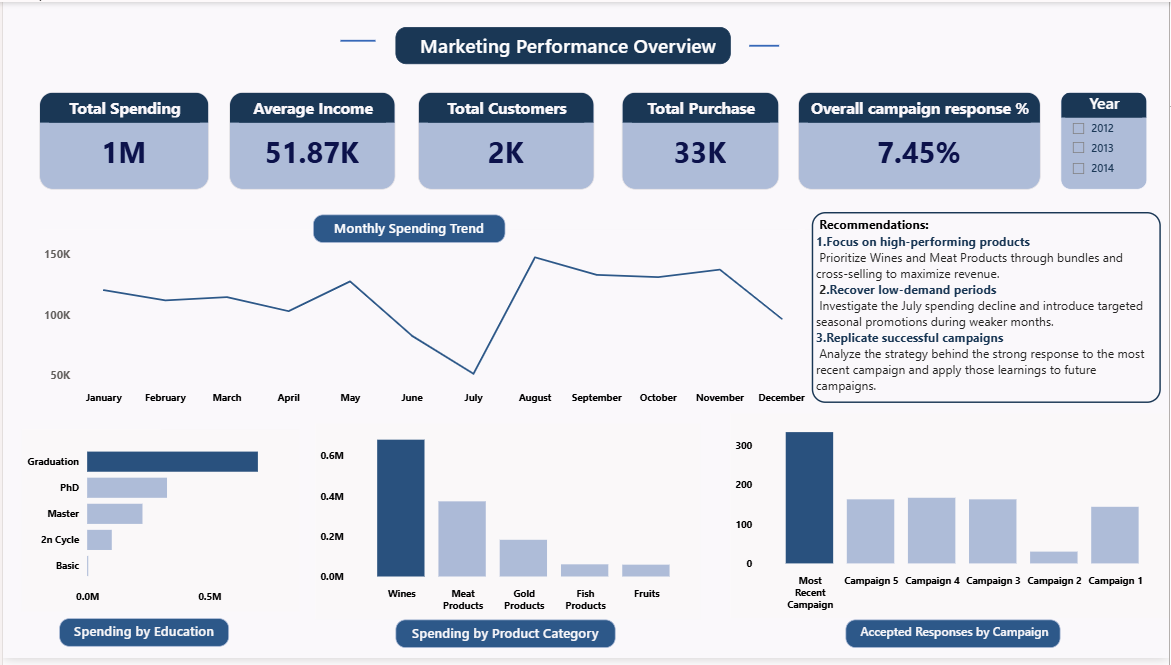

This screenshot's page, from the dashboard's own definition file:
{"tool":"powerbi","page":{"name":"Marketing Overview","canvas":[1280,720],"ordinal":0},"visuals":[{"type":"cardVisual","title":"Total Customers","fields":{"Data":["_Measures.Total_Customers"]},"box":[455.6,98.8,193.5,107],"z":0},{"type":"cardVisual","title":"Average Income","fields":{"Data":["_Measures.Avg_Income"]},"box":[248.4,98.8,182.5,107],"z":1000},{"type":"cardVisual","title":"Total Spending","fields":{"Data":["_Measures.Total_Spending"]},"box":[39.8,98.8,186.6,107],"z":2000},{"type":"cardVisual","title":"Total Purchase","fields":{"Data":["_Measures.Total_Purchase"]},"box":[679.2,98.8,172.9,107],"z":3000},{"type":"clusteredColumnChart","title":"Total Spending by Product Category","fields":{"Y":["_Measures.Total_Spending"],"Category":["Dim_Product.Product_Category"]},"box":[343.1,462.4,422.6,215.4],"z":4000},{"type":"lineChart","title":"Monthly Spending Trend","fields":{"Category":["Dim_Date.Month"],"Y":["_Measures.Total_Spending"]},"box":[39.8,249.7,848,201.7],"z":5000},{"type":"barChart","fields":{"Category":["Dim_Customer.Education"],"Y":["_Measures.Total_Spending"]},"box":[20.6,469.3,304.6,200.3],"z":6000},{"type":"cardVisual","title":"Overall campaign response %","fields":{"Data":["_Measures.Campaign_Accepted_Rate"]},"box":[872.7,98.8,266.2,107],"z":7000},{"type":"columnChart","fields":{"Category":["Dim_Campaign.Campaign_Name"],"Y":["_Measures.Accepted_Campaign"]},"box":[798.6,451.5,481.6,225],"z":8000},{"type":"textbox","box":[430.9,27.4,367.8,41.2],"z":9000},{"type":"textbox","box":[340.3,233.3,211.3,31.6],"z":10000},{"type":"textbox","box":[430.9,677.9,241.5,31.6],"z":11000},{"type":"textbox","box":[61.7,676.5,186.6,31.6],"z":12000},{"type":"textbox","box":[924.9,677.9,236,31.6],"z":13000},{"type":"textbox","box":[887.8,230.5,382.8,209.9],"z":14000},{"type":"shape","box":[370.5,16.5,38.4,52.1],"z":15000},{"type":"shape","box":[819.2,22,32.9,52.1],"z":16000},{"type":"slicer","title":"Year","fields":{"Values":["Dim_Date.Year"]},"box":[1160.9,98.8,95,107],"z":17000}]}

Visuals, with their boxes in screenshot pixels (x1, y1, x2, y2), scaled from the page's 1280x720 canvas onto the 1171x665 screenshot:
"Total Customers" cardVisual: bbox=[417, 91, 594, 190]
"Average Income" cardVisual: bbox=[227, 91, 394, 190]
"Total Spending" cardVisual: bbox=[36, 91, 207, 190]
"Total Purchase" cardVisual: bbox=[621, 91, 780, 190]
"Total Spending by Product Category" clusteredColumnChart: bbox=[314, 427, 700, 626]
"Monthly Spending Trend" lineChart: bbox=[36, 231, 812, 417]
barChart - Dim_Customer.Education x _Measures.Total_Spending: bbox=[19, 433, 298, 618]
"Overall campaign response %" cardVisual: bbox=[798, 91, 1042, 190]
columnChart - Dim_Campaign.Campaign_Name x _Measures.Accepted_Campaign: bbox=[731, 417, 1170, 625]
textbox: bbox=[394, 25, 731, 63]
textbox: bbox=[311, 215, 505, 245]
textbox: bbox=[394, 626, 615, 655]
textbox: bbox=[56, 625, 227, 654]
textbox: bbox=[846, 626, 1062, 655]
textbox: bbox=[812, 213, 1162, 407]
shape: bbox=[339, 15, 374, 63]
shape: bbox=[749, 20, 780, 68]
"Year" slicer: bbox=[1062, 91, 1149, 190]
